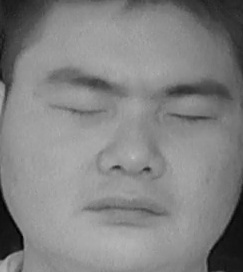blink: (56, 93, 106, 125), (168, 98, 216, 131)
mouth: (81, 184, 170, 232)
